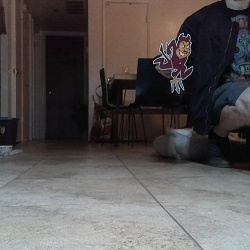sparky: (152, 32, 194, 96)
